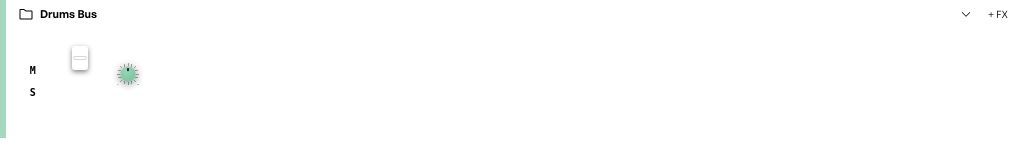
it: FolderTrackHeader — disclosure (collapse) › clicking disclosure toggles to collapsed
Click the button named "collapse drums bus".
click(966, 14)  # box [956,4,976,24]
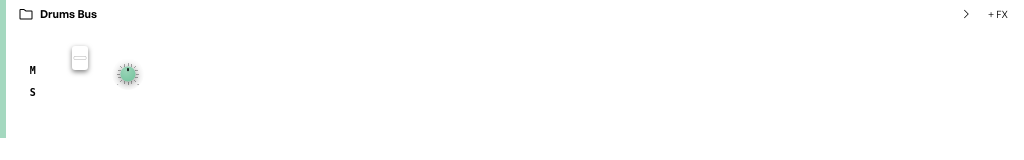
Now the button named "expand drums bus" is collapsed, box [956,4,976,24]
